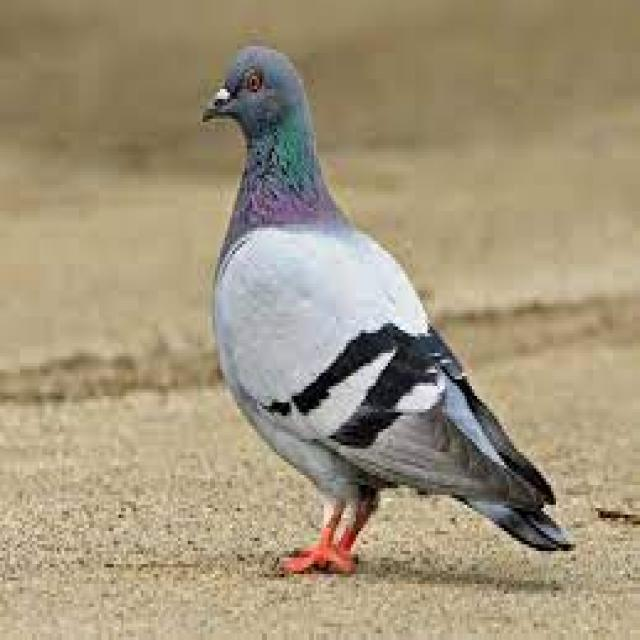bird: (186, 20, 587, 604)
